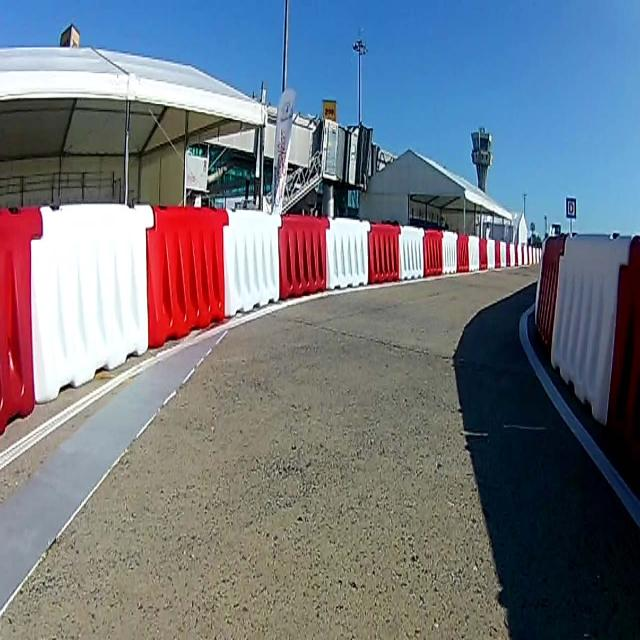durak: (567, 197, 576, 218)
